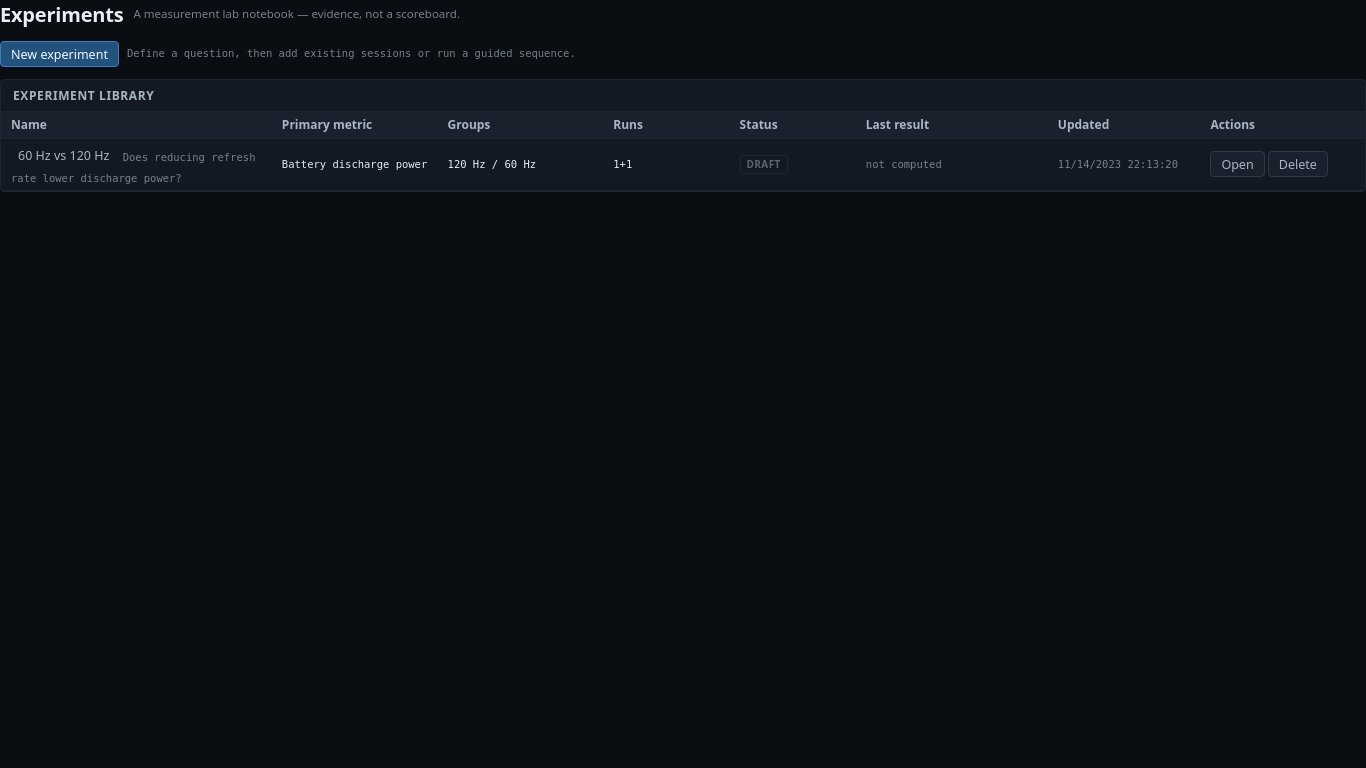
ExperimentsPage › shows an insufficient/weak state for N=1 without overclaiming
Click the button "60 Hz vs 120 Hz": (64, 156) [11, 143, 116, 169]
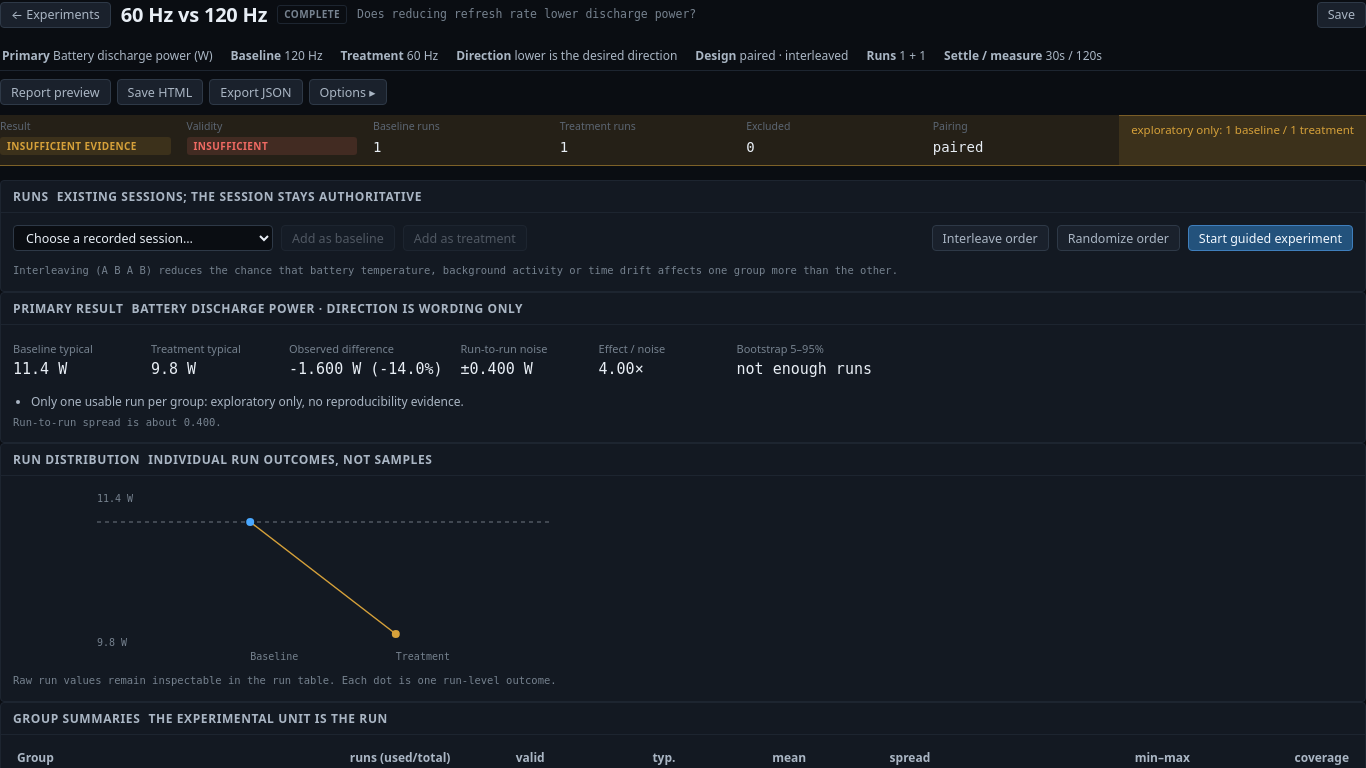
Expected: the text "exploratory only: 1 baseline / 1 treatment" is shown, [1119, 115, 1365, 165]
Expected: the text "Insufficient evidence" is shown, [0, 137, 170, 155]
